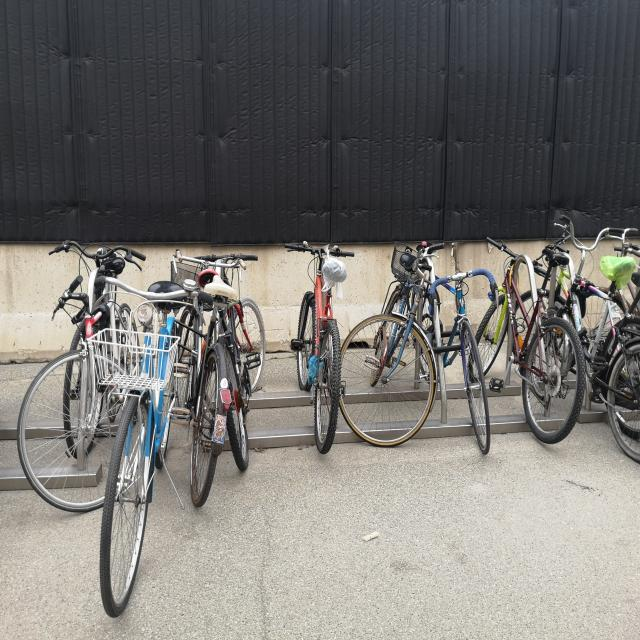Bicycle: (35, 246, 159, 550), (98, 213, 178, 605), (470, 221, 582, 457), (349, 203, 440, 485), (562, 204, 640, 458), (286, 202, 353, 465), (188, 242, 255, 500), (218, 276, 274, 508), (68, 230, 132, 420), (444, 242, 488, 473)
